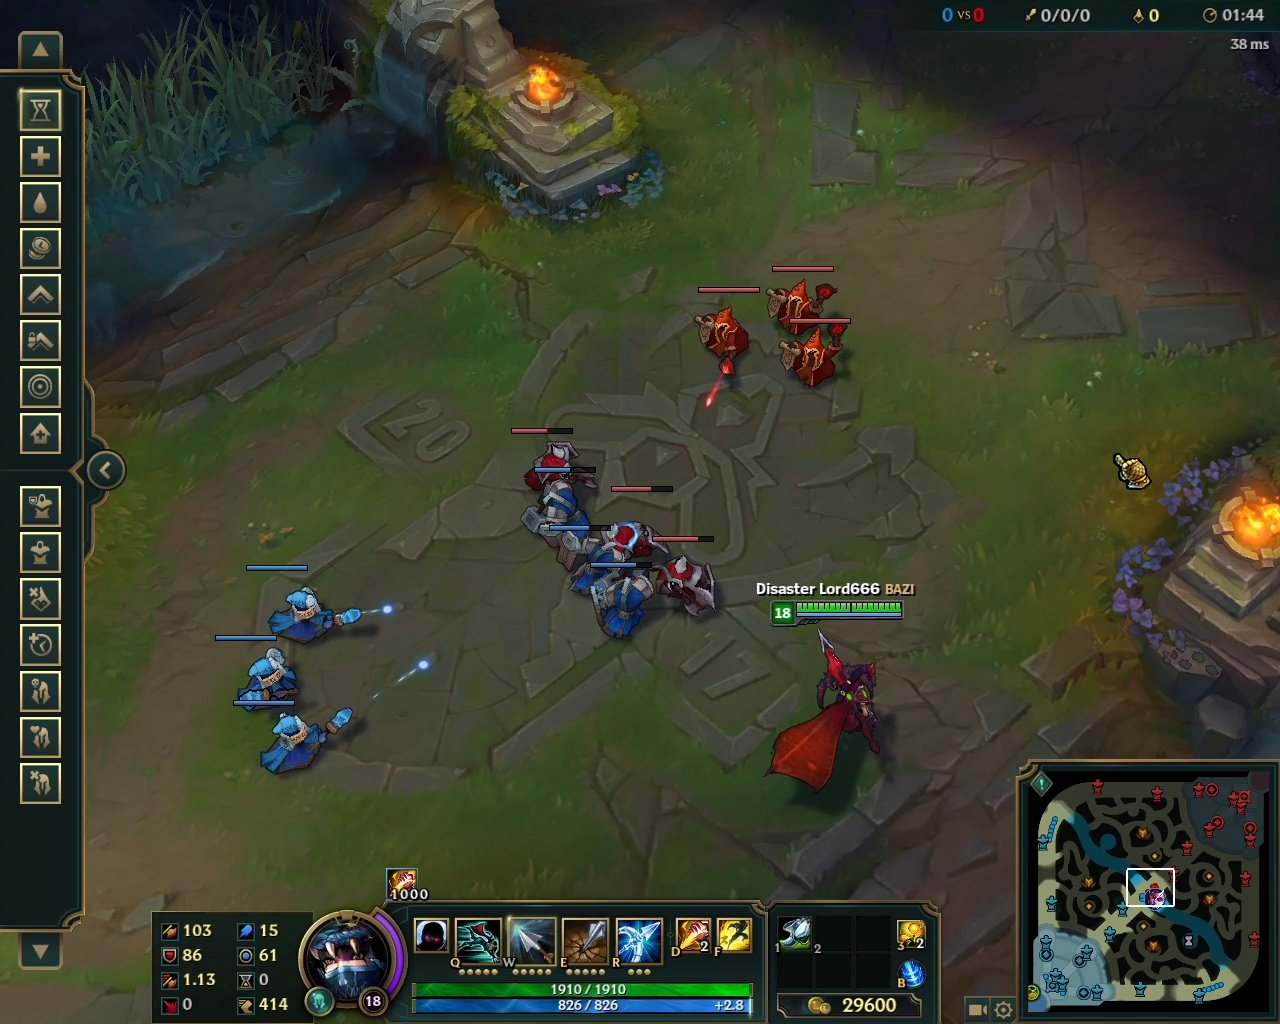EnemyMinion: (601, 481, 679, 573), (688, 287, 759, 382), (649, 531, 722, 622), (512, 427, 600, 497), (775, 317, 853, 392), (765, 264, 841, 335)
Vayne: (759, 627, 893, 797)
